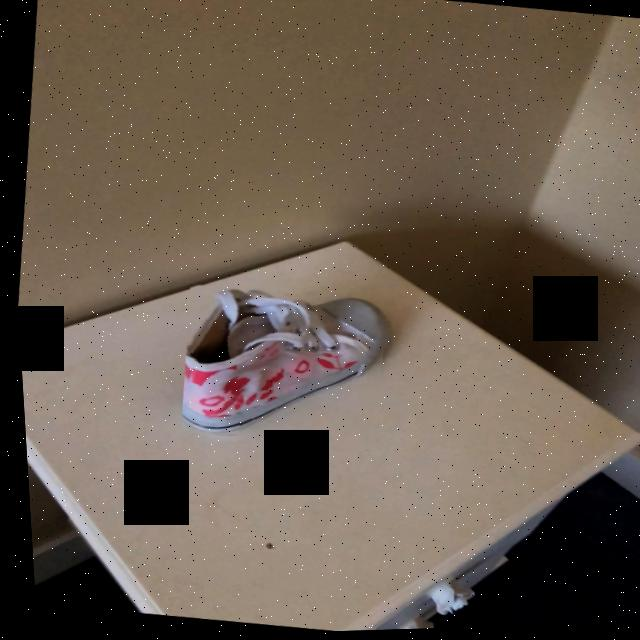shoe: (176, 294, 383, 434)
